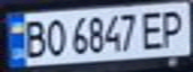4: (103, 11, 124, 53)
6: (66, 13, 90, 55)
7: (118, 10, 142, 52)
8: (84, 12, 106, 54)
B: (18, 17, 48, 60)
E: (139, 8, 169, 51)
O: (42, 16, 69, 57)
P: (157, 6, 190, 48)
